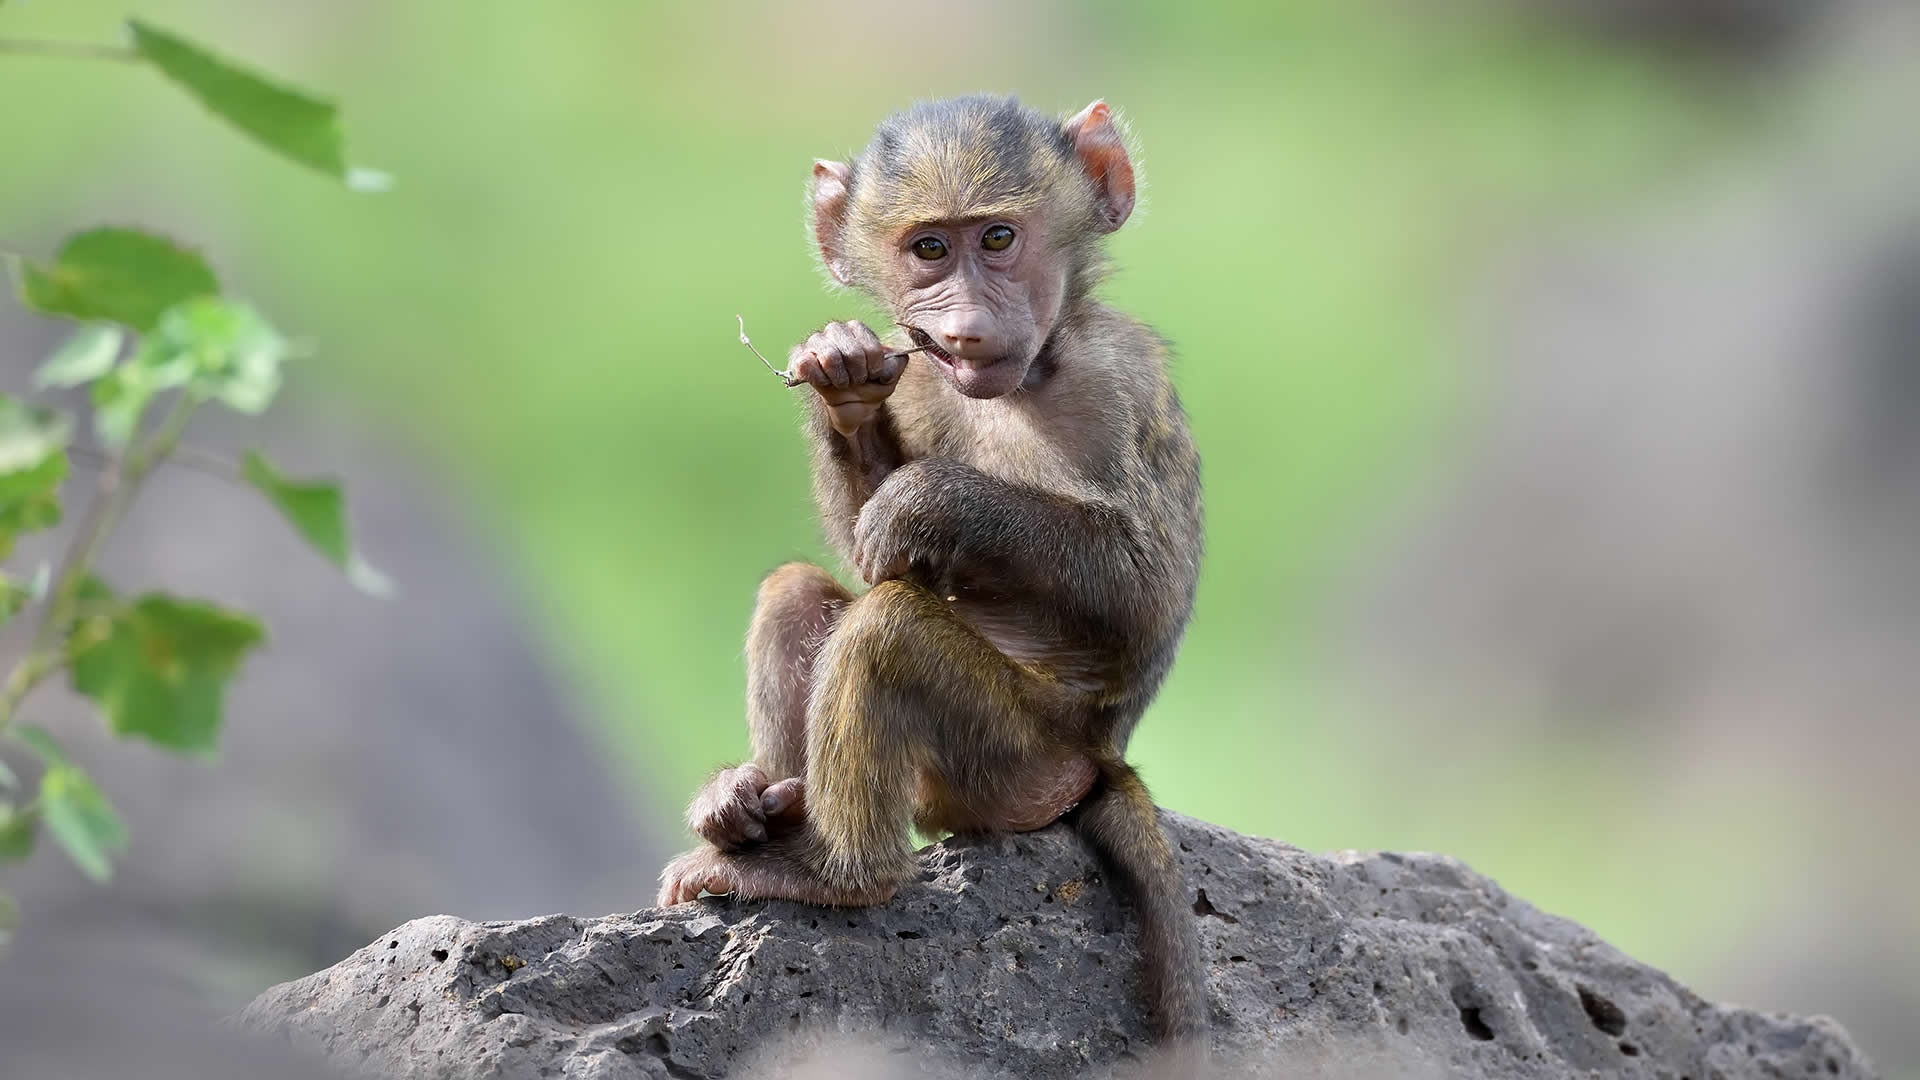monkey: (649, 82, 1255, 1077)
